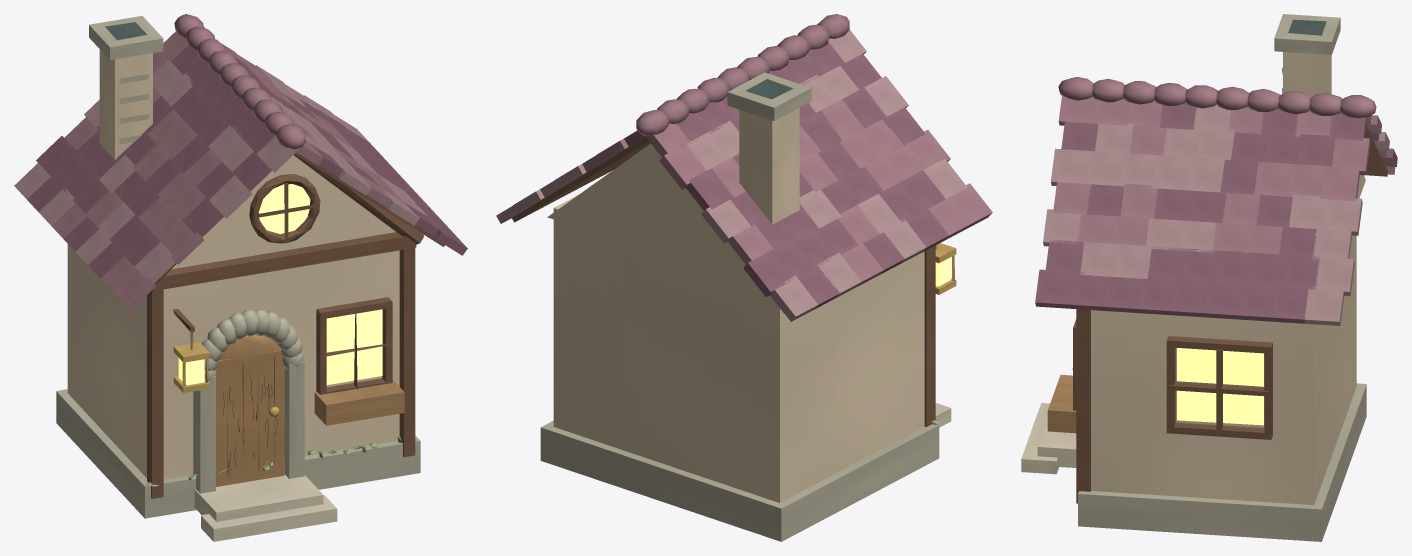
Rendered from village-neighbor3.glb.
The picture shows the model from 3 angles, left to right: view 1: azimuth 30°, elevation 25°; view 2: azimuth 150°, elevation 25°; view 3: azimuth 270°, elevation 25°; orthographic projection. The views are drawn at different scales.
Parts seen in each view (by area): view 1: Forest hamlet; view 2: Forest hamlet; view 3: Forest hamlet.
Boxes of the visible parts, x1,y1,x2,y2 form: Forest hamlet: [14, 14, 467, 541]; Forest hamlet: [496, 14, 992, 541]; Forest hamlet: [1021, 14, 1397, 541].
Bounding box in the file's own units: 3.71 × 4.04 × 3.36.
Materials: 12 (12 with a texture image).
